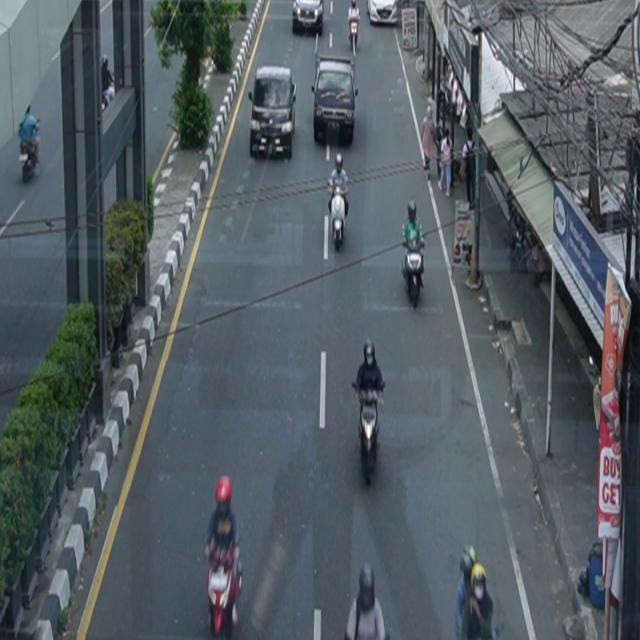car: (249, 66, 297, 160), (312, 55, 359, 146), (293, 1, 325, 35), (367, 1, 398, 26)
